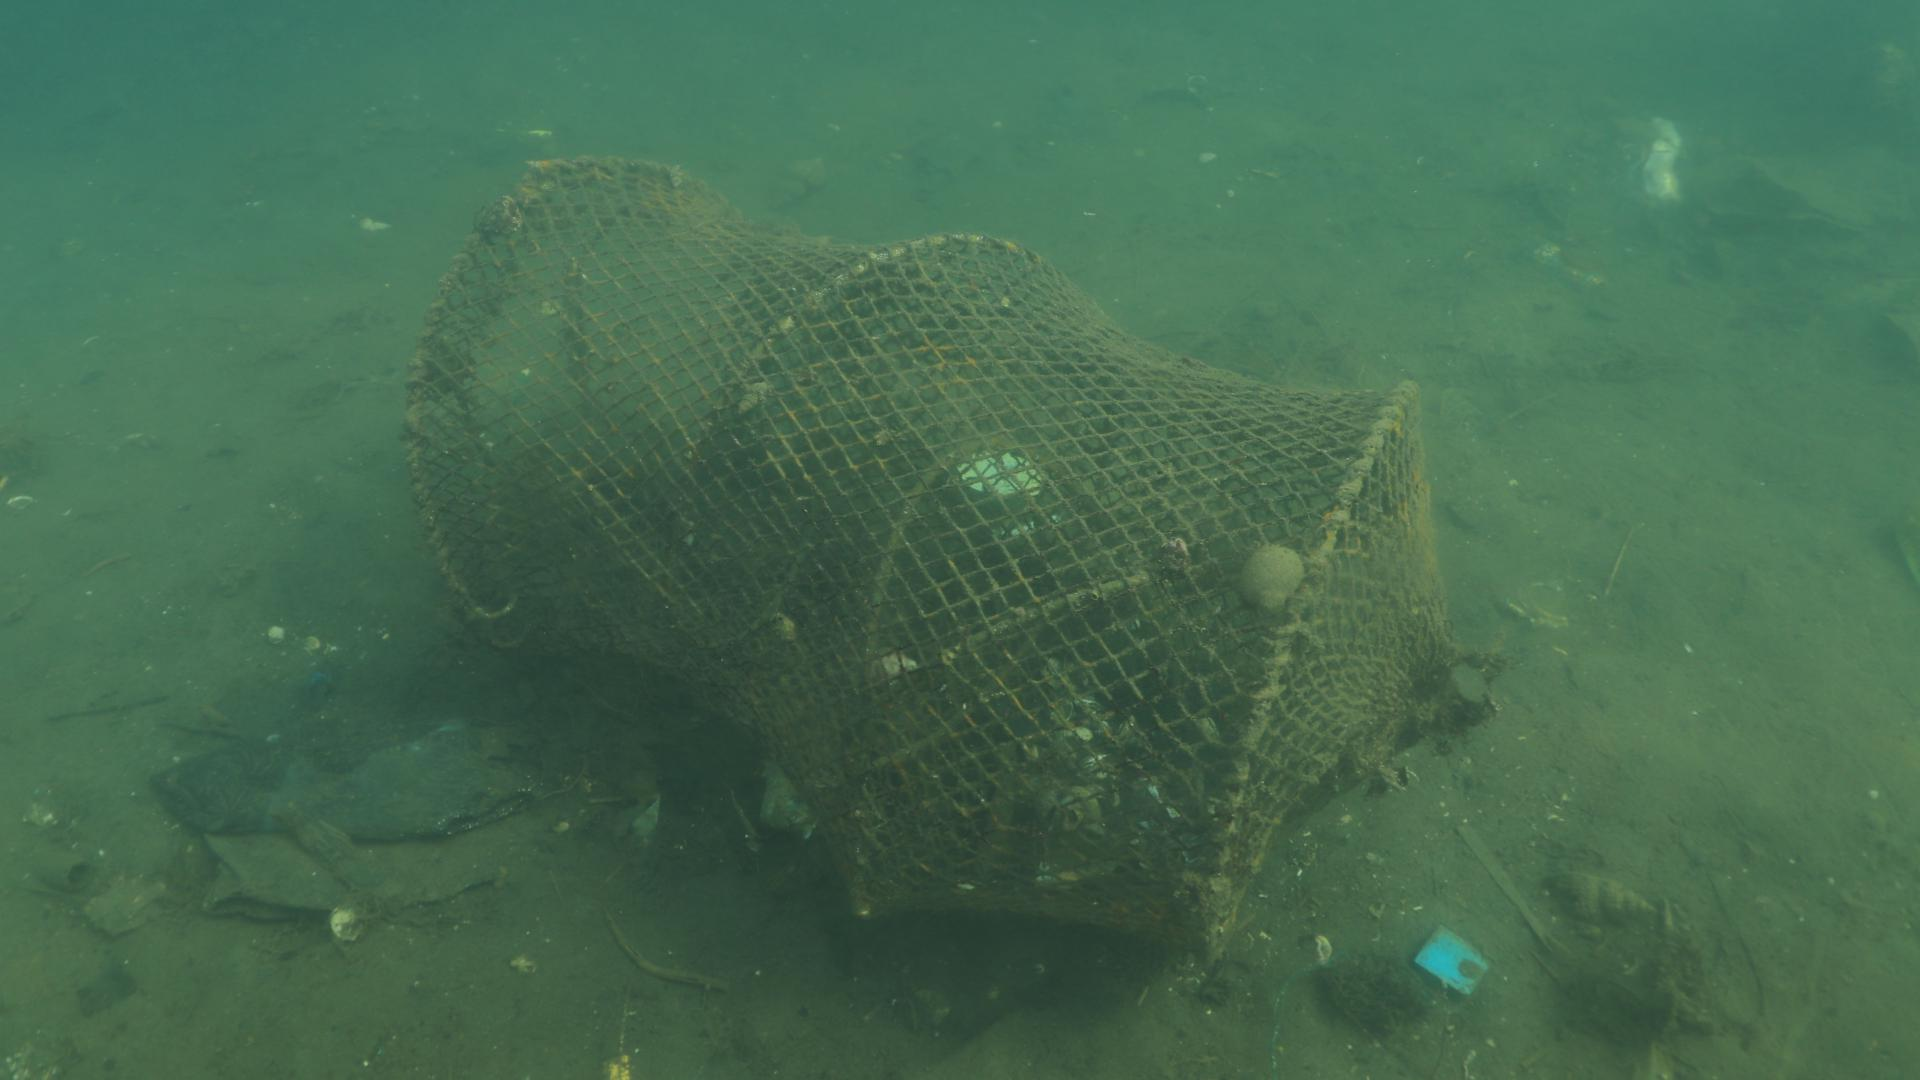spring fish trap: (402, 154, 1510, 963)
